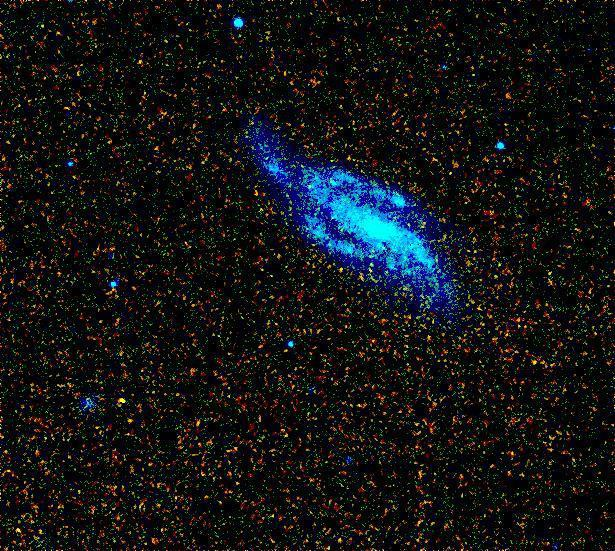star: (103, 385, 133, 415)
